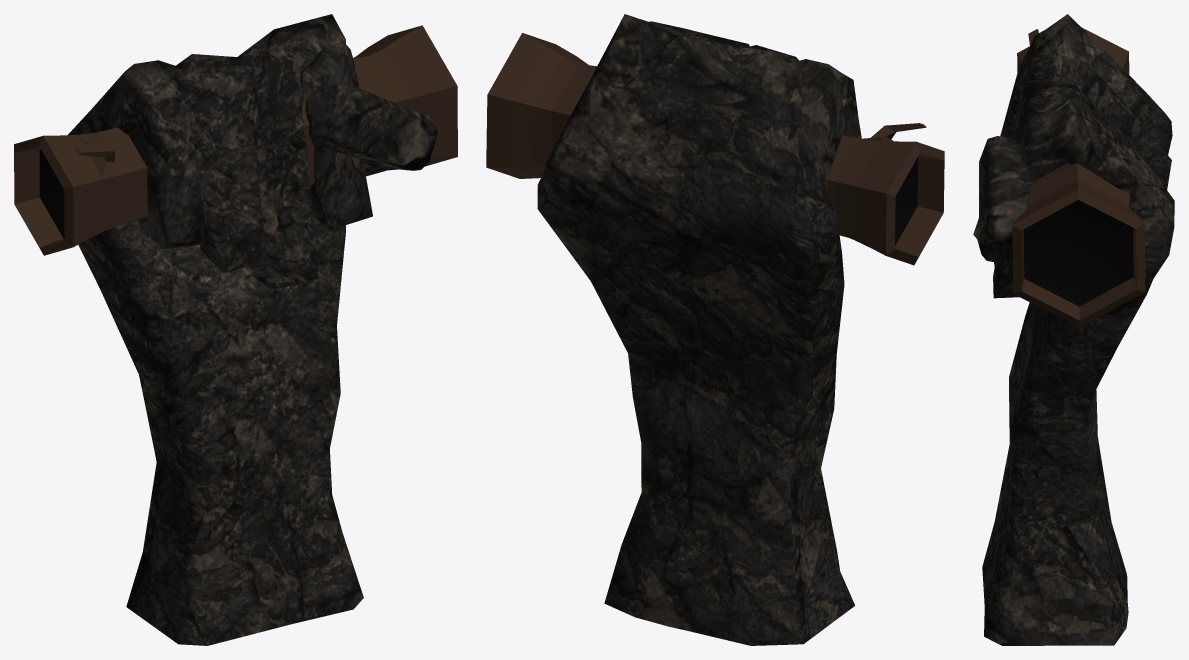
Rendered from LoveDeath_Hand_Art.fbx.
The picture shows the model from 3 angles, left to right: view 1: azimuth 30°, elevation 25°; view 2: azimuth 150°, elevation 25°; view 3: azimuth 270°, elevation 25°; orthographic projection. The views are drawn at different scales.
Visible parts, largest first — view 1: LoveDeath_Hand_Art; view 2: LoveDeath_Hand_Art; view 3: LoveDeath_Hand_Art.
Boxes of the visible parts, x1,y1,x2,y2 form: LoveDeath_Hand_Art: (14, 14, 457, 645); LoveDeath_Hand_Art: (486, 14, 944, 645); LoveDeath_Hand_Art: (973, 14, 1174, 645).
Size of the model in its own units: 682 by 925 by 313.
